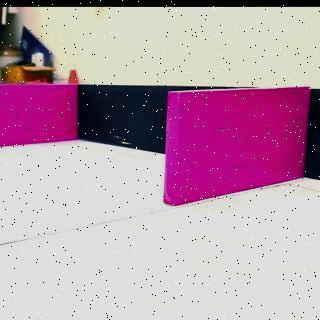xparking: (166, 90, 309, 186), (1, 85, 77, 141)
